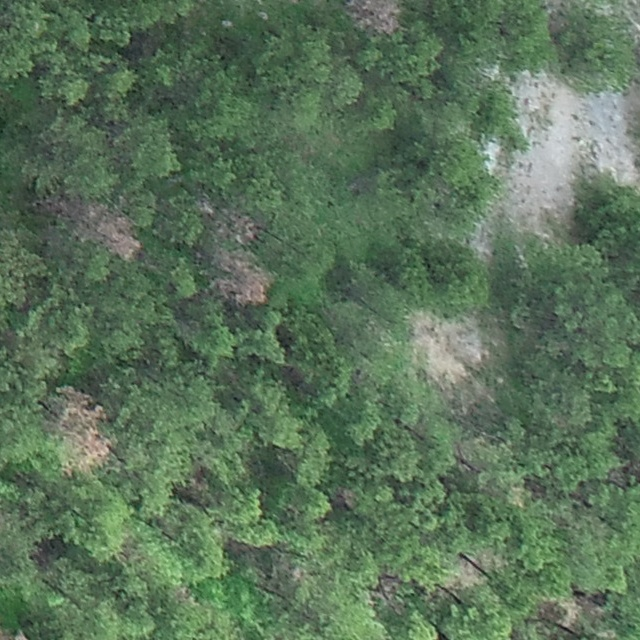unhealthy: (53, 387, 113, 469), (214, 251, 273, 308), (87, 202, 140, 262), (212, 206, 263, 246), (347, 0, 404, 35), (0, 628, 29, 639)
